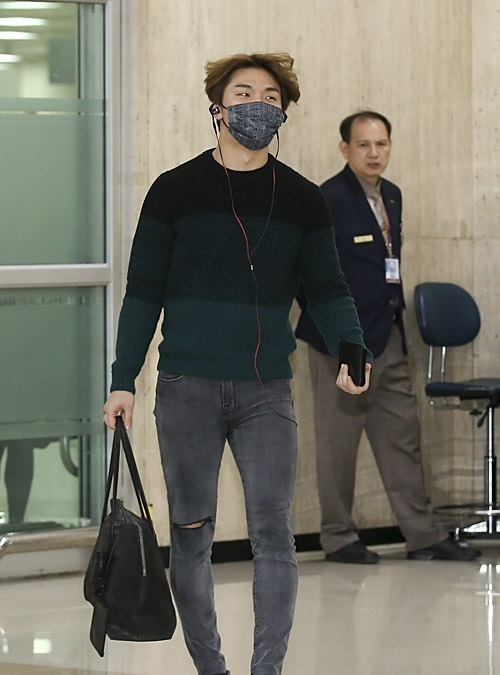face: (349, 119, 388, 176)
face_mask: (224, 66, 280, 148)
